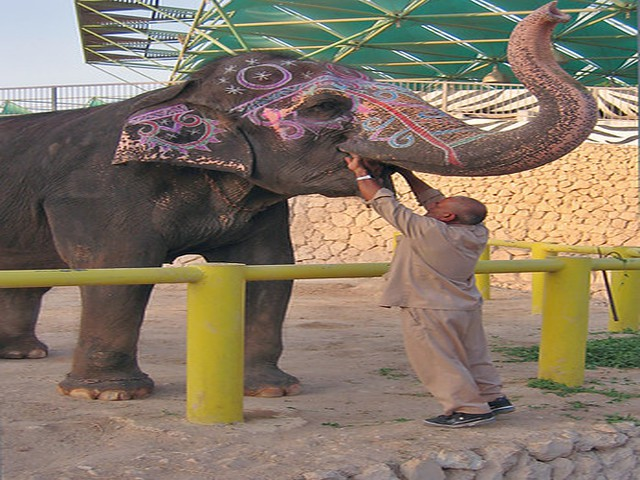Elephant: (1, 15, 610, 399)
Person: (356, 162, 523, 428)
